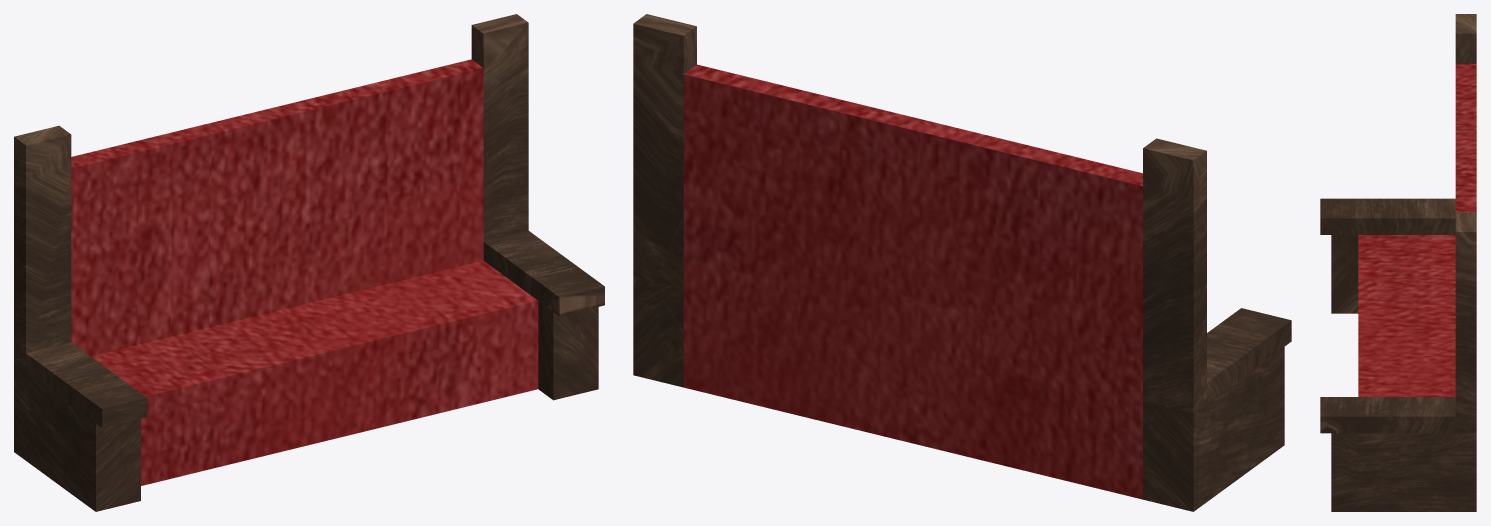
Rendered from throneroom_bench.fbx.
3 renders of one model, left to right at view 1: azimuth 30°, elevation 25°; view 2: azimuth 150°, elevation 25°; view 3: azimuth 270°, elevation 25°, orthographic. The views are drawn at different scales.
Parts seen in each view (by area): view 1: throneroom_bench; view 2: throneroom_bench; view 3: throneroom_bench.
Boxes of the visible parts, x1,y1,x2,y2 form: throneroom_bench: [14, 14, 604, 511]; throneroom_bench: [633, 14, 1291, 511]; throneroom_bench: [1320, 14, 1476, 511].
Bounding box in the file's own units: 409 × 245 × 124.
